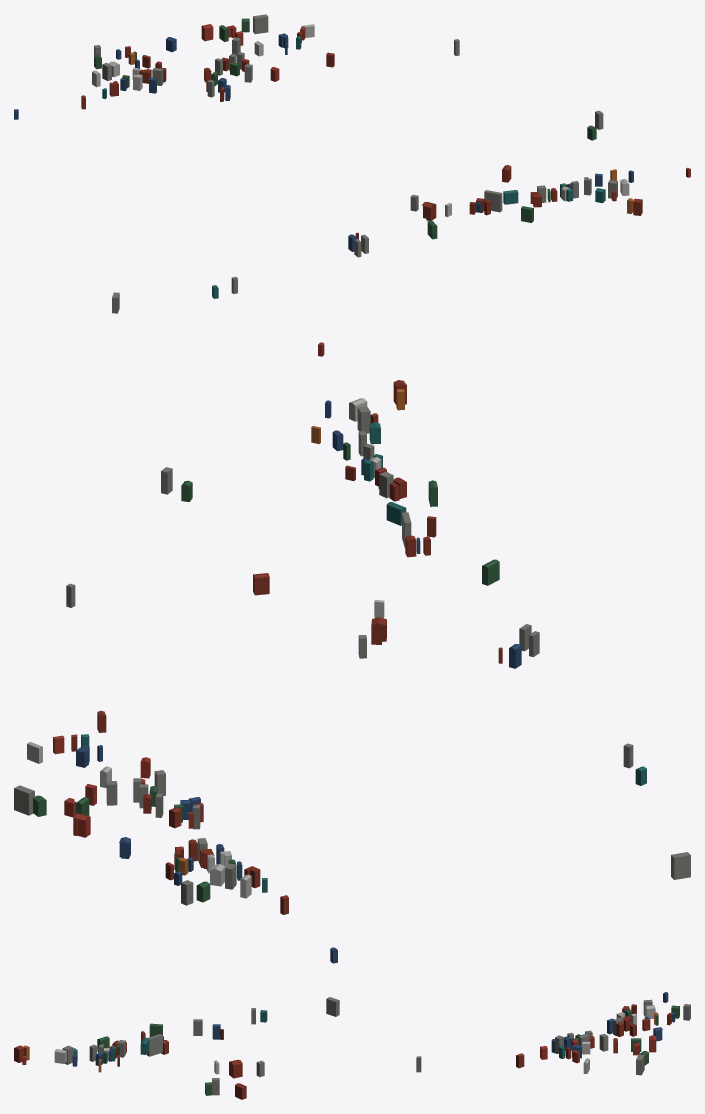
Rendered from near-15-27357-14861.51d5b6fd.glb.
3 renders of one model, top to bottom at view 1: azimuth 30°, elevation 25°; view 2: azimuth 150°, elevation 25°; view 3: azimuth 270°, elevation 25°, orthographic. The views are drawn at different scales.
Size of the model in its own units: 711 by 250 by 1002.
